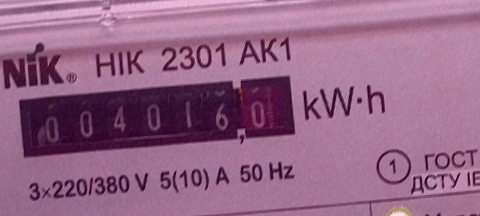0: (142, 99, 166, 135), (41, 111, 64, 145), (246, 96, 269, 130), (76, 106, 97, 141)
1: (180, 95, 197, 130)
4: (109, 100, 130, 136)
6: (210, 98, 232, 131)
screen: (11, 68, 305, 165)
